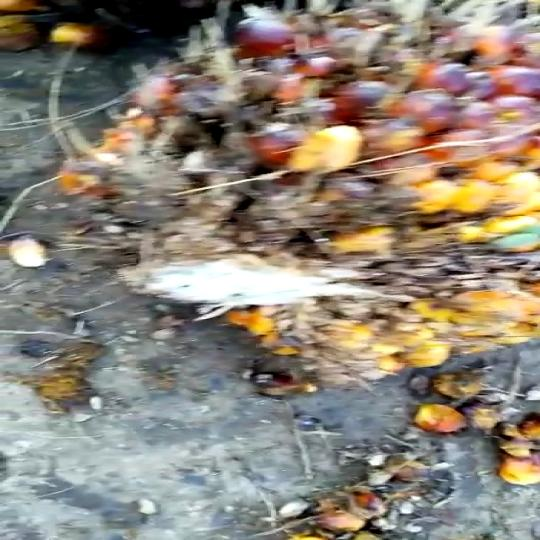masak: (117, 7, 540, 370)
